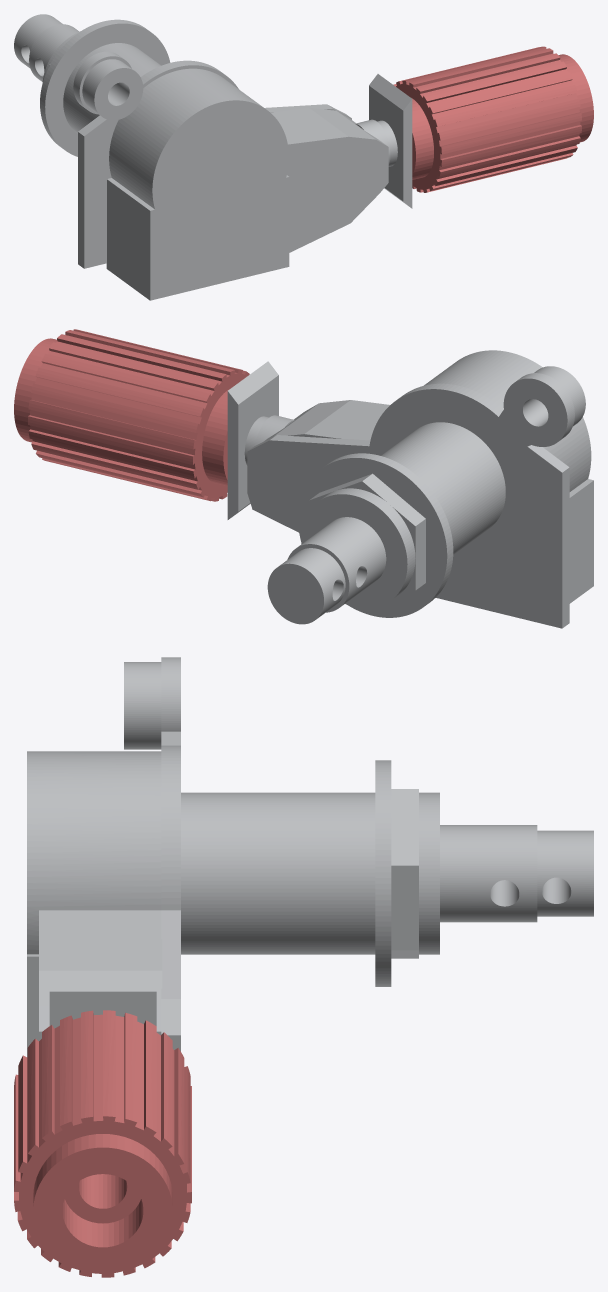
The model's file is WEIRDO_SG381_LEFT_motylek_osobny.glb.
The picture shows the model from 3 angles, top to bottom: view 1: azimuth 30°, elevation 25°; view 2: azimuth 150°, elevation 25°; view 3: azimuth 270°, elevation 25°; orthographic projection. The views are drawn at different scales.
Visible parts, largest first — view 1: SG381_LEFT_METAL, WEIRDO_MOTYLEK_BINDING_COLOR; view 2: SG381_LEFT_METAL, WEIRDO_MOTYLEK_BINDING_COLOR; view 3: SG381_LEFT_METAL, WEIRDO_MOTYLEK_BINDING_COLOR.
Part boxes in pixels (x1,y1,x2,y2): SG381_LEFT_METAL: (14,14,412,300); WEIRDO_MOTYLEK_BINDING_COLOR: (393,46,593,192); SG381_LEFT_METAL: (227,350,593,628); WEIRDO_MOTYLEK_BINDING_COLOR: (14,329,249,501); SG381_LEFT_METAL: (27,657,593,1057); WEIRDO_MOTYLEK_BINDING_COLOR: (14,1010,191,1277).
Size of the model in its own units: 52.3 by 22.4 by 35.8.
